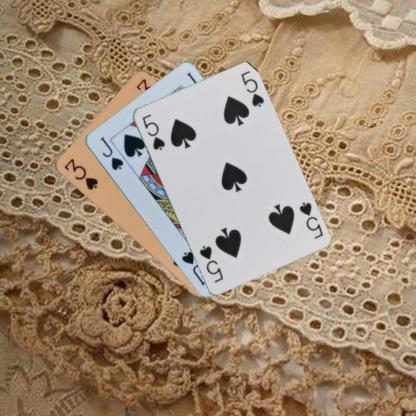3s: (60, 156, 98, 192)
5s: (296, 199, 324, 240), (140, 111, 166, 151)
Js: (97, 134, 124, 172)
